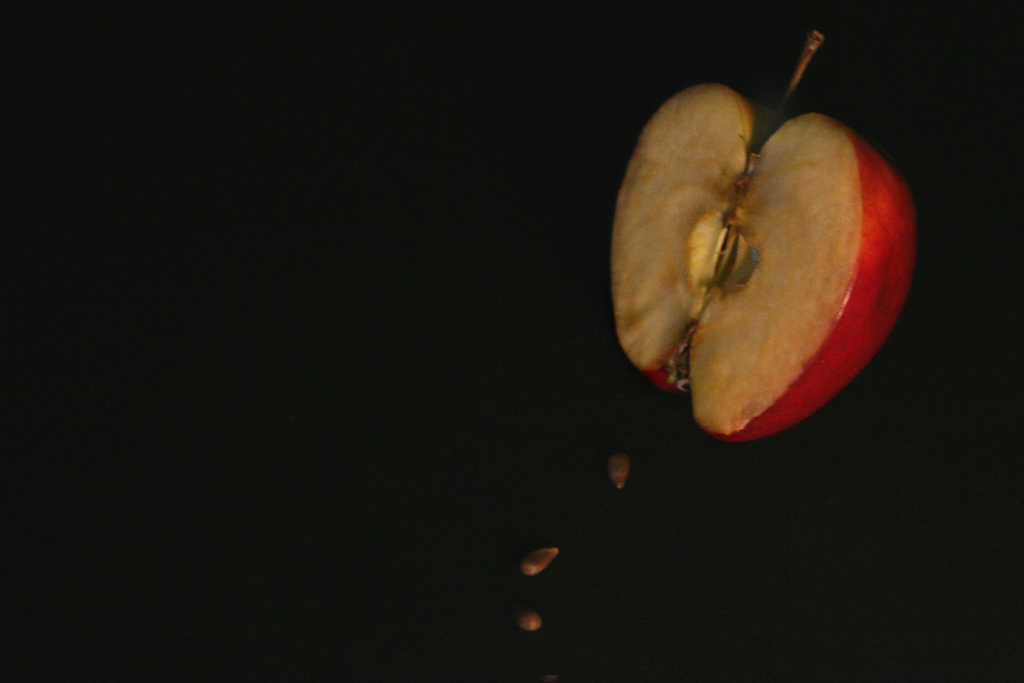Apple: (604, 48, 940, 483)
